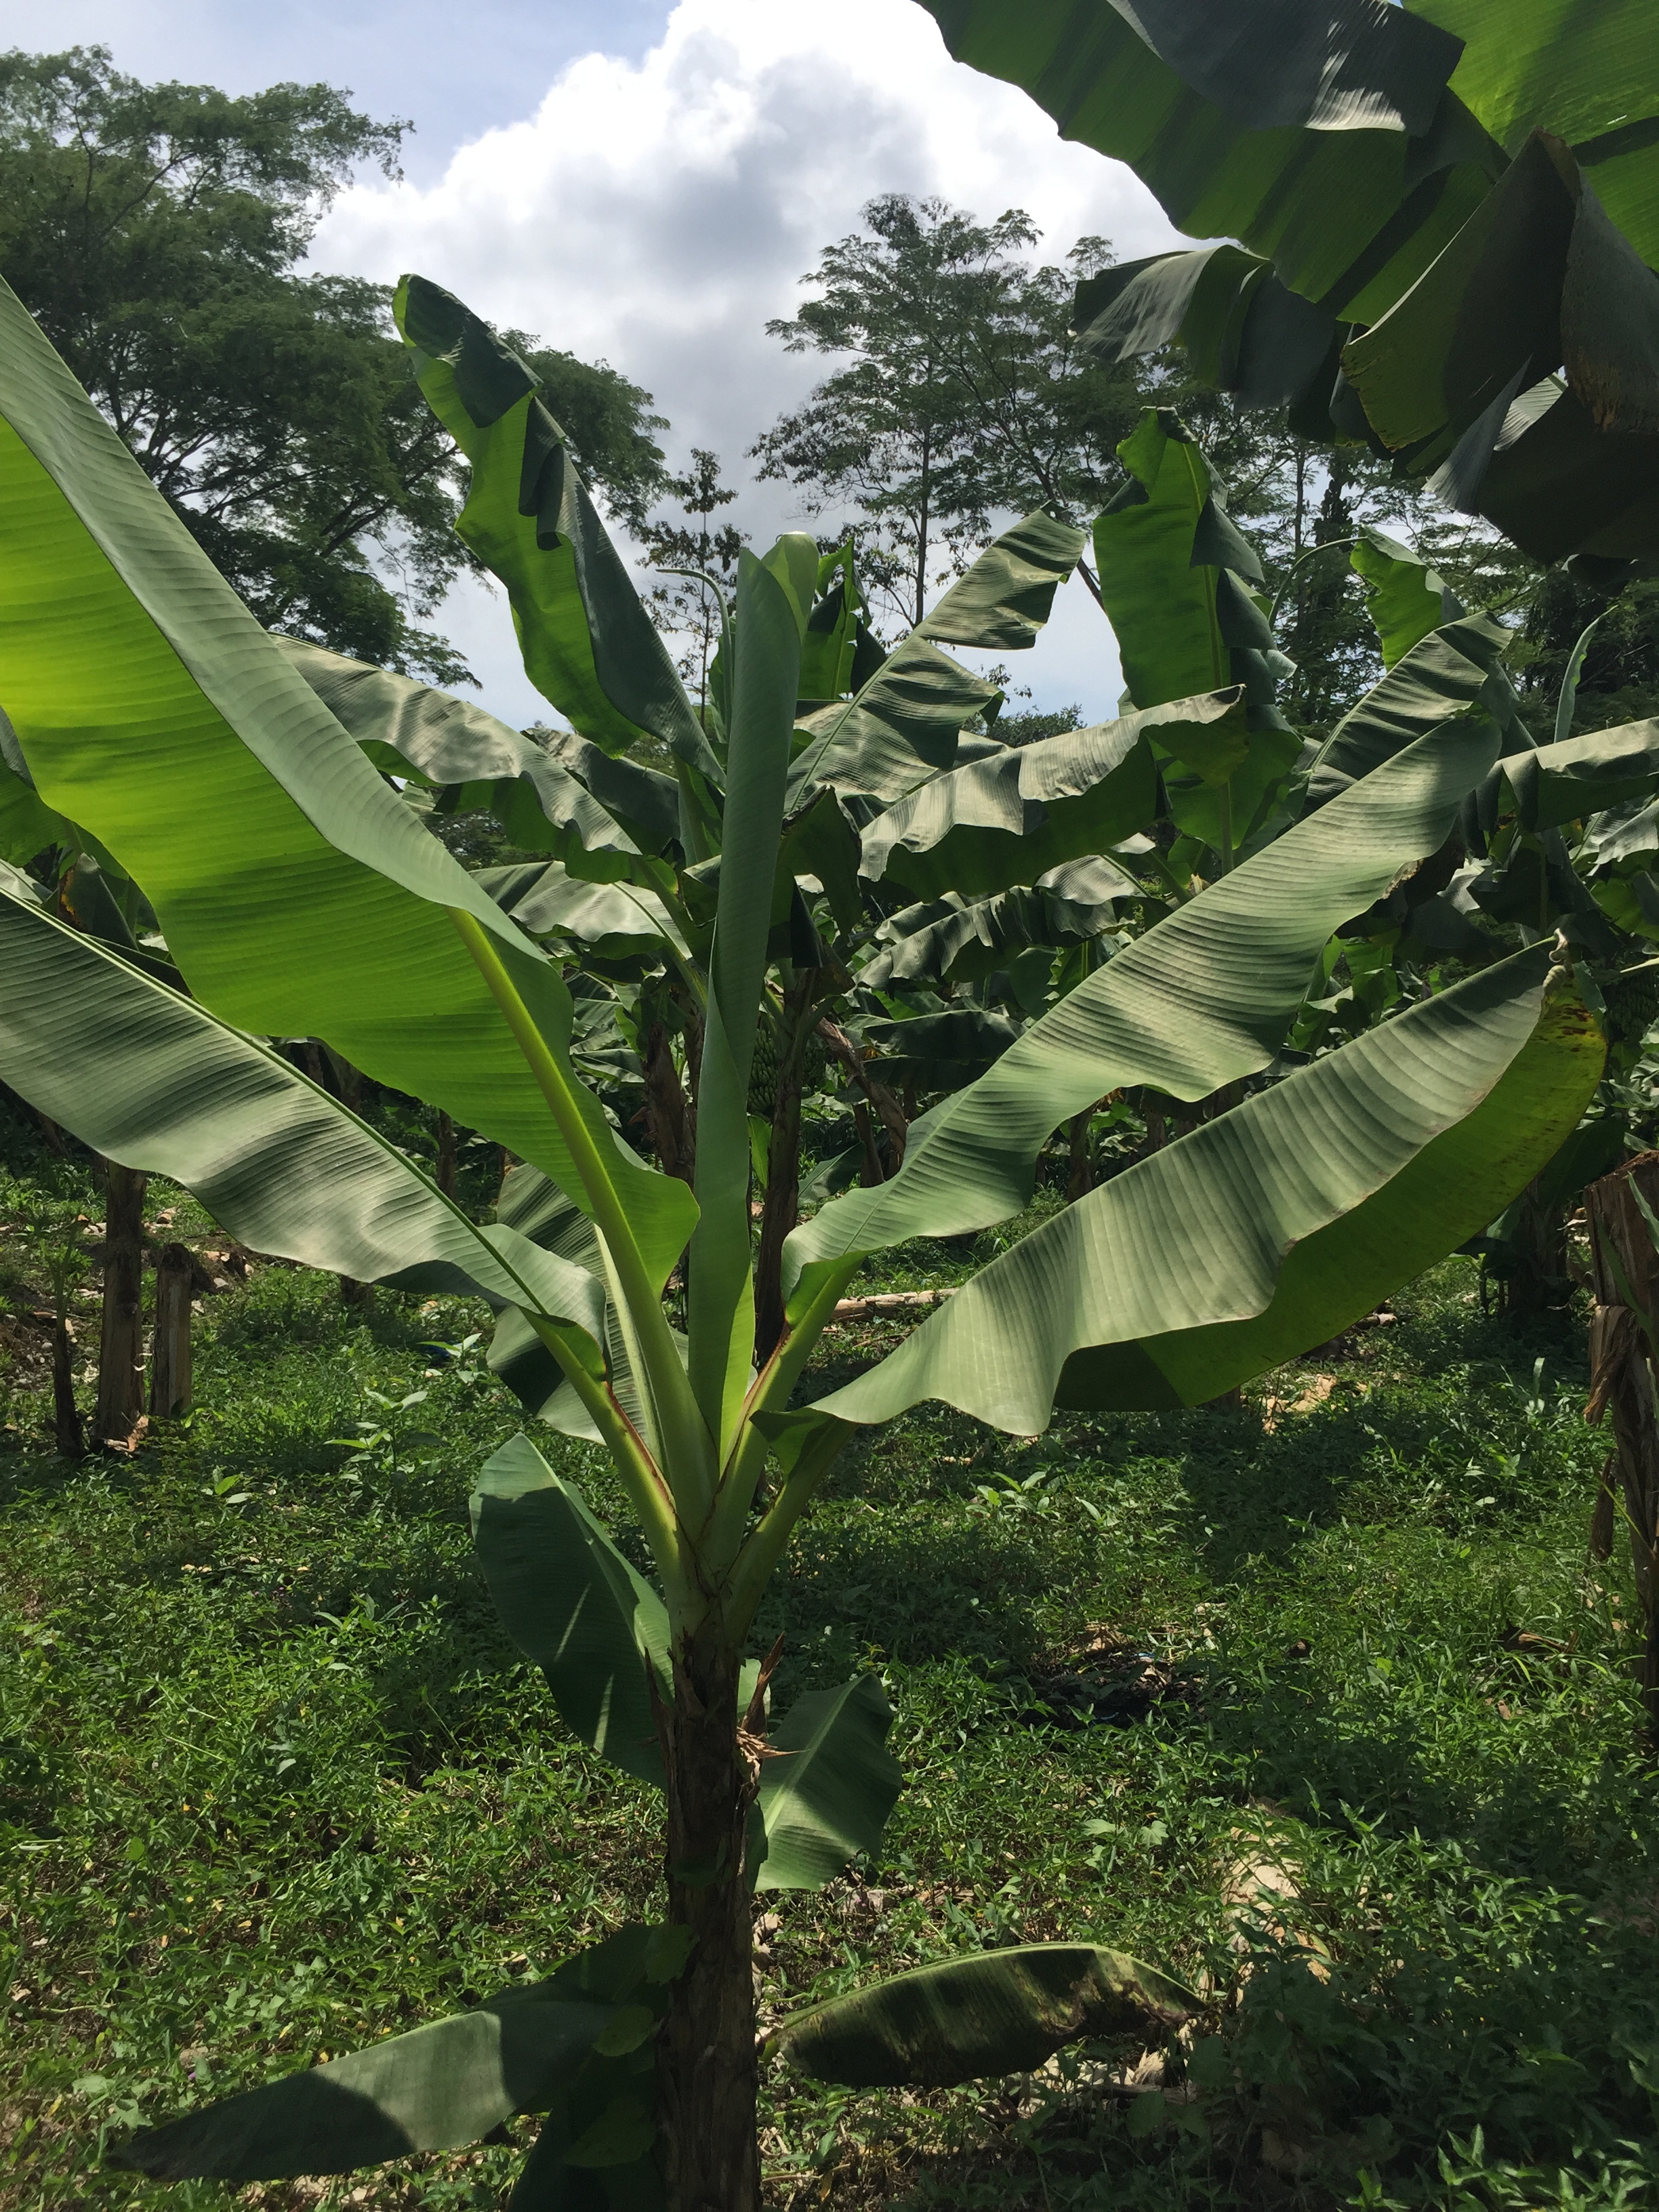candleleafs: (688, 529, 823, 1402)
